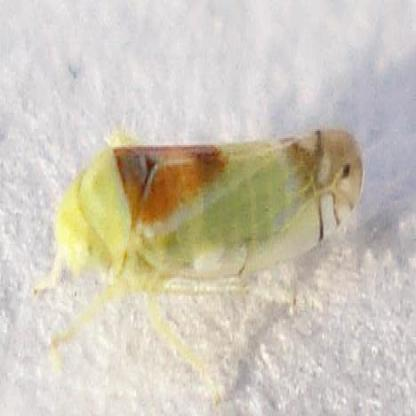green-leafhopper: (53, 126, 363, 293)
